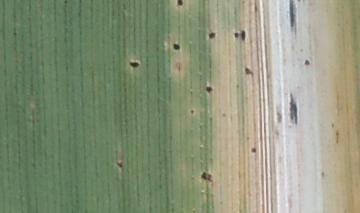tarspot: (197, 167, 216, 185), (232, 26, 248, 44), (126, 57, 143, 72), (241, 63, 253, 79), (114, 159, 127, 172), (202, 83, 216, 95), (170, 40, 183, 52), (207, 28, 217, 43), (302, 57, 313, 69), (248, 144, 259, 156), (173, 1, 186, 9), (188, 106, 198, 116)
